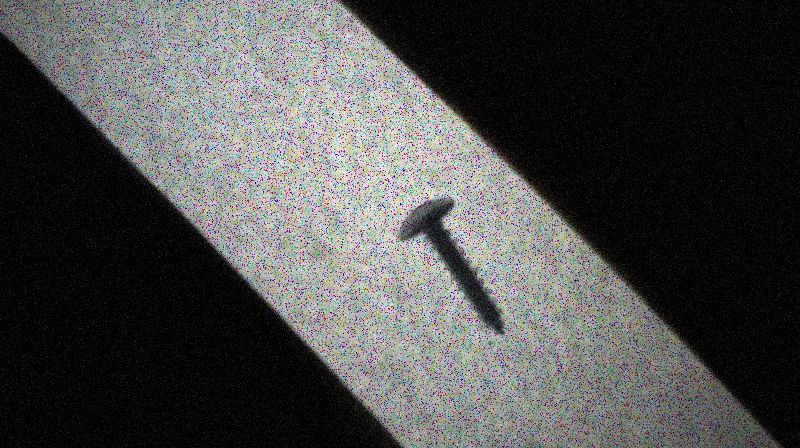S003: (394, 194, 508, 338)
